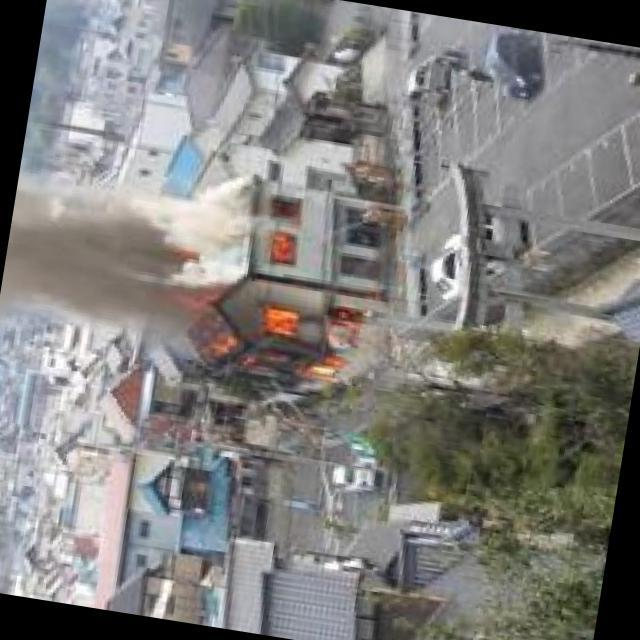Fire: (214, 293, 357, 391), (268, 225, 302, 269)
